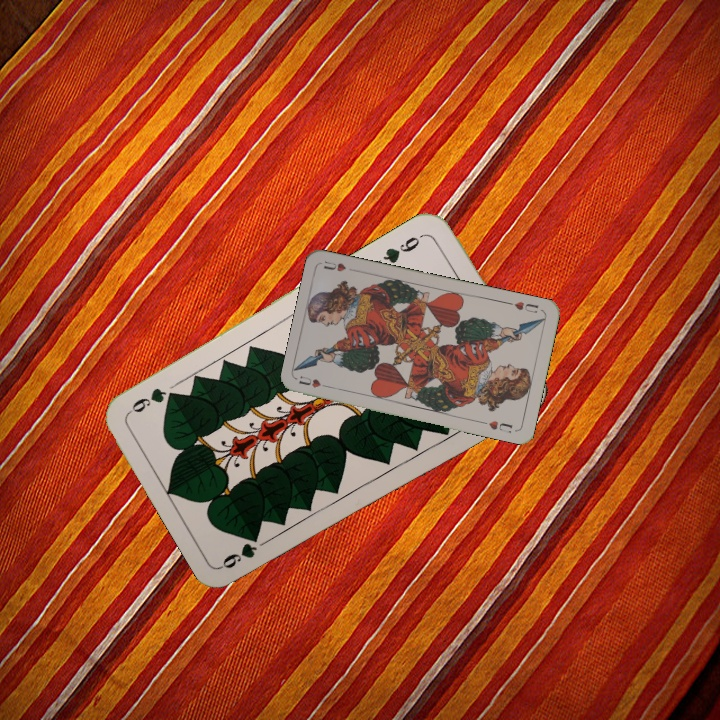G9: (378, 229, 428, 273), (218, 540, 260, 572)
HU: (295, 372, 334, 391), (504, 297, 541, 316)
